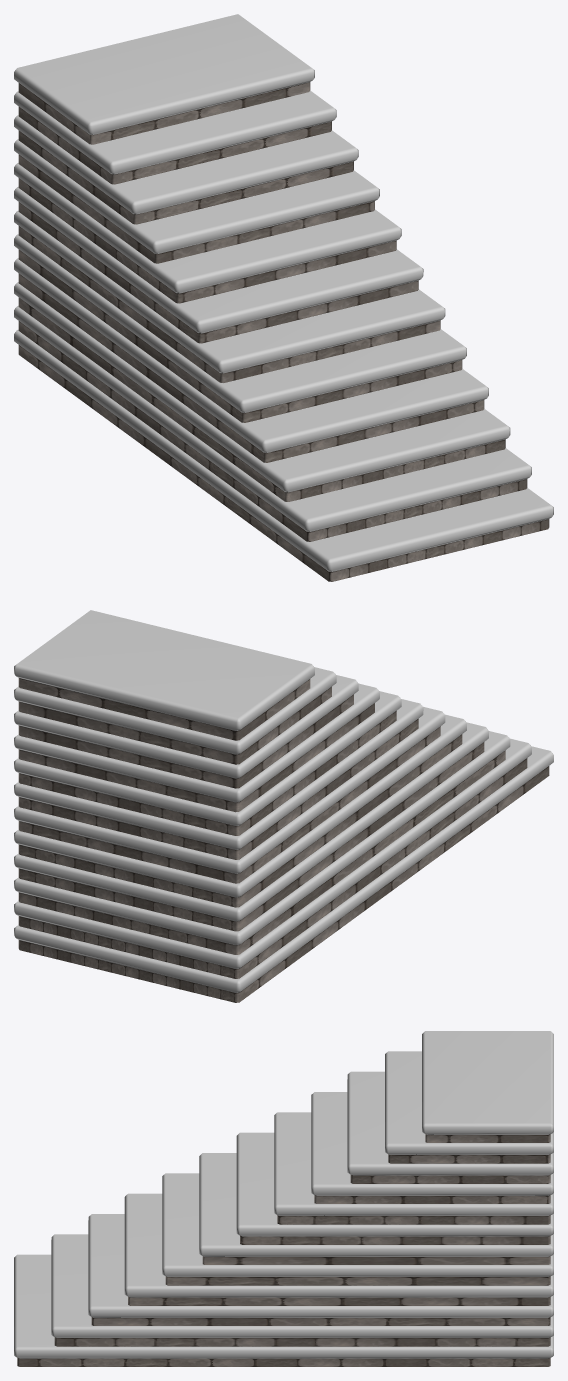
The model's file is StaircaseLarge.fbx.
The picture shows the model from 3 angles, top to bottom: view 1: azimuth 30°, elevation 25°; view 2: azimuth 150°, elevation 25°; view 3: azimuth 270°, elevation 25°; orthographic projection. The views are drawn at different scales.
Visible parts, largest first — view 1: Mesh; view 2: Mesh; view 3: Mesh.
Boxes of the visible parts, box(x1,y1,x2,y2) form: Mesh: box(14, 14, 553, 581); Mesh: box(14, 610, 553, 1002); Mesh: box(14, 1031, 553, 1366).
Size of the model in its own units: 197 by 237 by 475.
